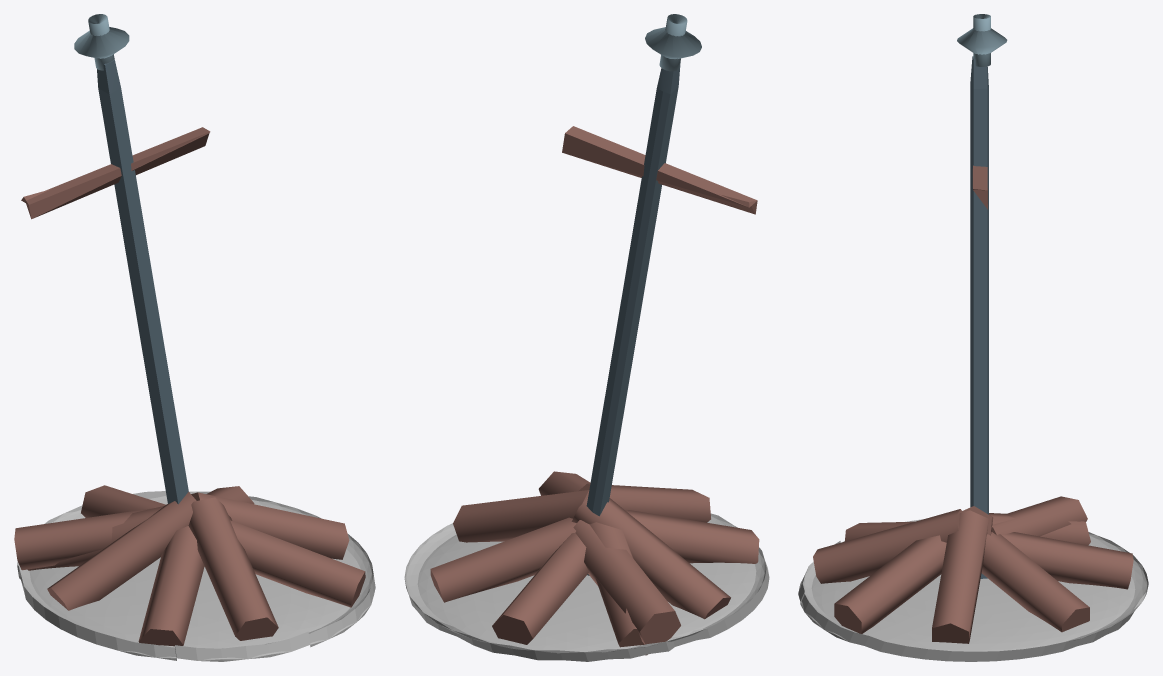
Rendered from epee.fbx.
3 views of the same model, side by side, from view 1: azimuth 30°, elevation 25°; view 2: azimuth 150°, elevation 25°; view 3: azimuth 270°, elevation 25° (orthographic). The views are drawn at different scales.
Visible parts, largest first — view 1: Sphere, Cube, Cylinder__2_, Cylinder__3_, Cylinder__4_, Cylinder__7_, Cylinder__8_, Cylinder, Cube__1_, Torus, Cylinder__1_, Cylinder__6_; view 2: Sphere, Cube, Cylinder__3_, Cylinder__5_, Cylinder__8_, Cylinder__1_, Cylinder, Cube__1_, Cylinder__7_, Cylinder__2_, Torus, Cylinder__6_ (+1 smaller); view 3: Sphere, Cube, Cylinder__4_, Cylinder, Cylinder__5_, Cylinder__2_, Cylinder__1_, Cylinder__8_, Torus, Cylinder__6_, Cylinder__7_, Cube__1_.
Boxes of the visible parts, box(x1,y1,x2,y2) form: Sphere: box(17, 491, 375, 661); Cube: box(97, 59, 188, 504); Cylinder__2_: box(188, 497, 278, 640); Cylinder__3_: box(47, 492, 196, 610); Cylinder__4_: box(230, 520, 365, 607); Cylinder__7_: box(138, 526, 204, 646); Cylinder__8_: box(14, 508, 152, 570); Cylinder: box(191, 492, 349, 559); Cube__1_: box(21, 127, 210, 219); Torus: box(74, 14, 129, 70); Cylinder__1_: box(81, 485, 165, 517); Cylinder__6_: box(27, 506, 163, 570); Sphere: box(404, 513, 769, 661); Cube: box(586, 62, 680, 575); Cylinder__3_: box(571, 498, 730, 619); Cylinder__5_: box(430, 517, 576, 602); Cylinder__8_: box(573, 520, 680, 644); Cylinder__1_: box(492, 533, 589, 644); Cylinder: box(453, 490, 589, 542); Cube__1_: box(562, 126, 757, 214); Cylinder__7_: box(625, 510, 759, 563); Cylinder__2_: box(578, 483, 710, 522); Torus: box(645, 14, 701, 71); Cylinder__6_: box(590, 522, 647, 655); Sphere: box(798, 519, 1148, 661); Cube: box(970, 56, 988, 578); Cylinder__4_: box(834, 535, 946, 633); Cylinder: box(932, 510, 988, 643); Cylinder__5_: box(981, 532, 1089, 632); Cylinder__2_: box(813, 509, 961, 583); Cylinder__1_: box(1002, 532, 1133, 589); Cylinder__8_: box(991, 496, 1087, 536); Torus: box(957, 14, 1007, 66); Cylinder__6_: box(989, 513, 1090, 545); Cylinder__7_: box(845, 521, 914, 541); Cube__1_: box(972, 165, 987, 209).
Size of the model in its own units: 4.04 by 7.18 by 4.18.
